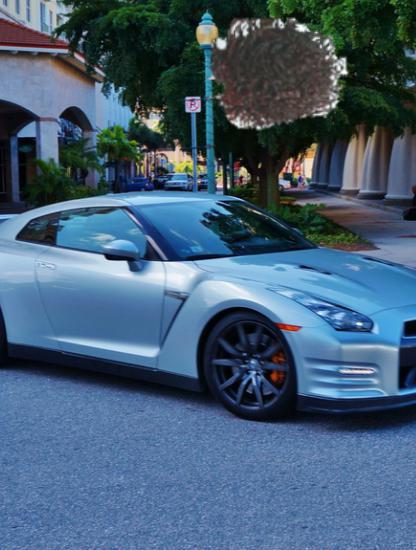Rambutan: (202, 0, 349, 147)
